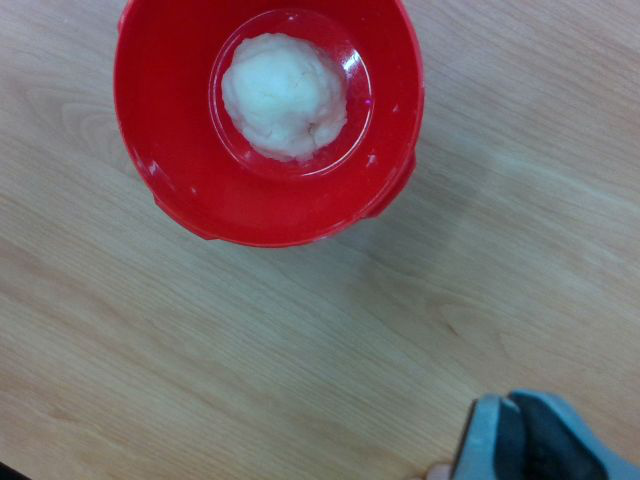mashed_potato: (222, 34, 347, 160)
